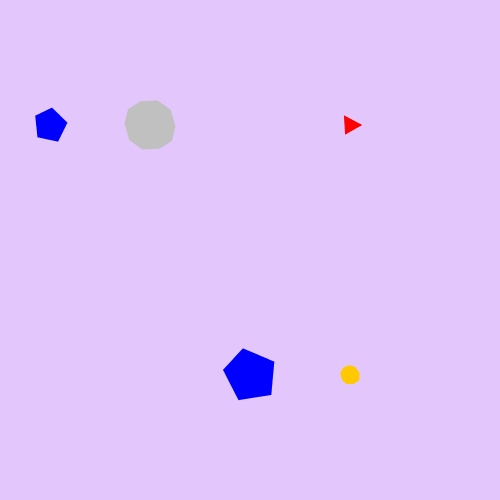decagon: (120, 97, 181, 153)
nonagon: (336, 361, 365, 389)
pentagon: (221, 346, 280, 405), (30, 105, 71, 146)
triangle: (337, 112, 363, 139)
